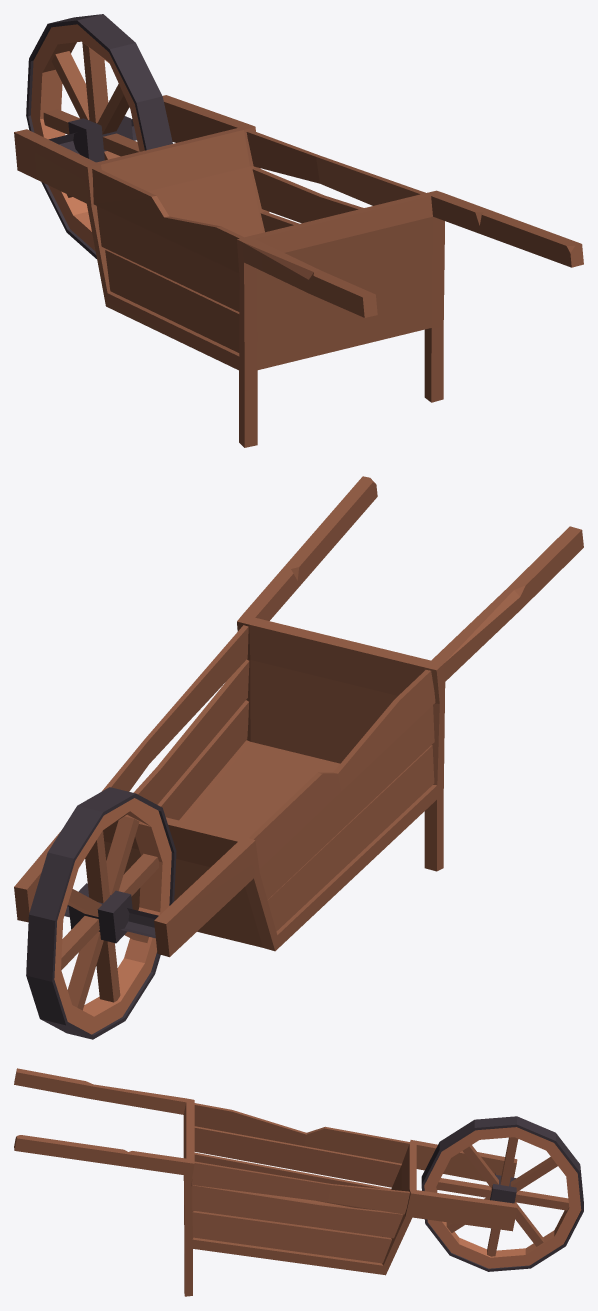
File: Wheelbarrow Village.fbx
The picture shows the model from 3 angles, top to bottom: view 1: azimuth 30°, elevation 25°; view 2: azimuth 150°, elevation 25°; view 3: azimuth 270°, elevation 25°; orthographic projection. The views are drawn at different scales.
Parts seen in each view (by area): view 1: Wheelbarrow; view 2: Wheelbarrow; view 3: Wheelbarrow.
Boxes of the visible parts, x1=… form: Wheelbarrow: x1=14, y1=14, x2=583, y2=447; Wheelbarrow: x1=14, y1=476, x2=583, y2=1039; Wheelbarrow: x1=14, y1=1068, x2=583, y2=1296.
Size of the model in its own units: 0.8461 by 0.9266 by 2.91.
